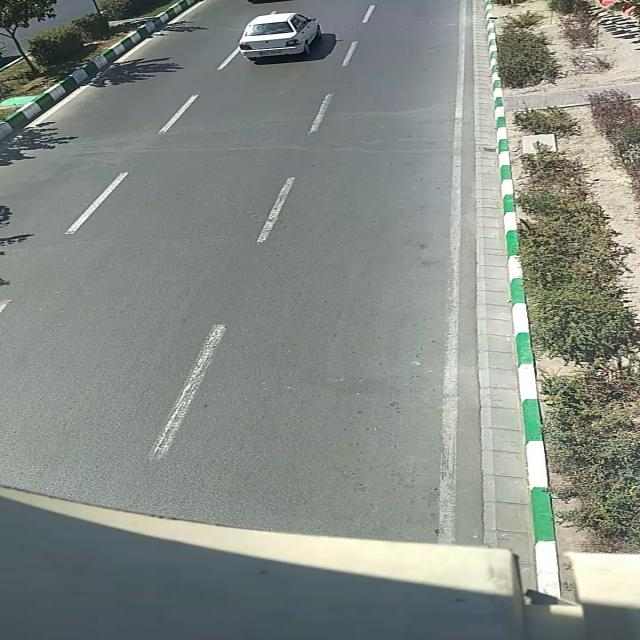car: (240, 11, 321, 63)
